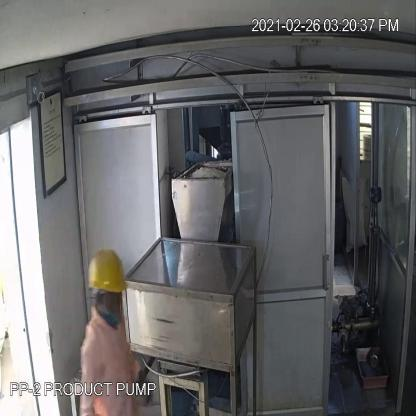helmet: (82, 242, 134, 302)
